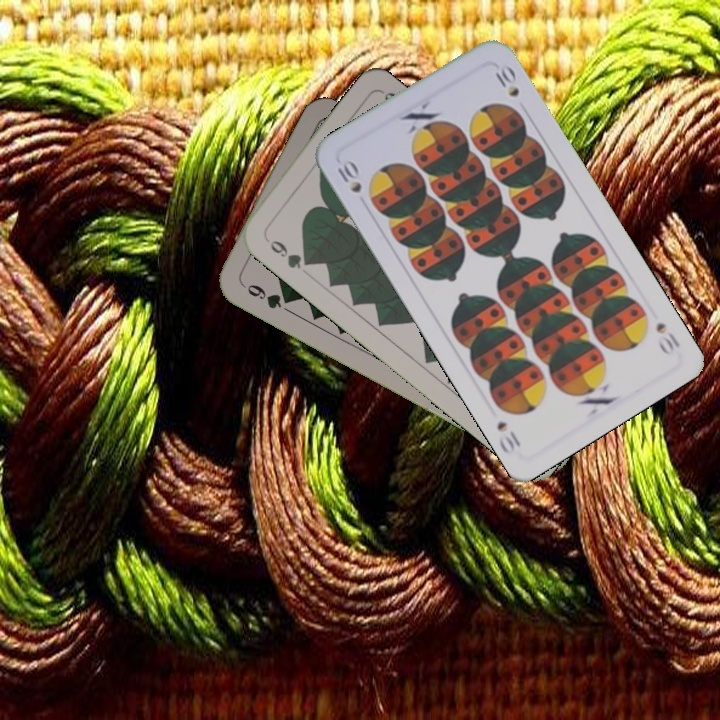G9: (237, 278, 294, 312), (265, 236, 314, 272)
S10: (331, 155, 365, 196), (651, 318, 683, 358)
